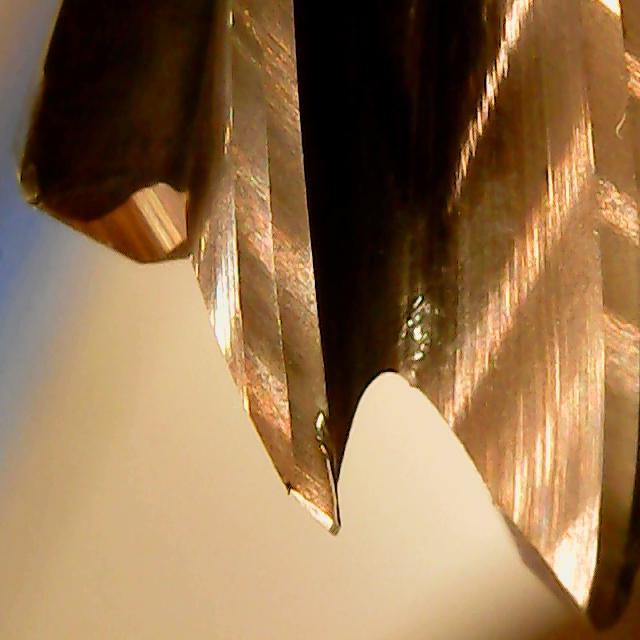Tool-wear-class-1: (254, 268, 362, 537)
